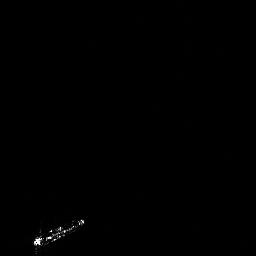ship: (30, 214, 89, 248)
